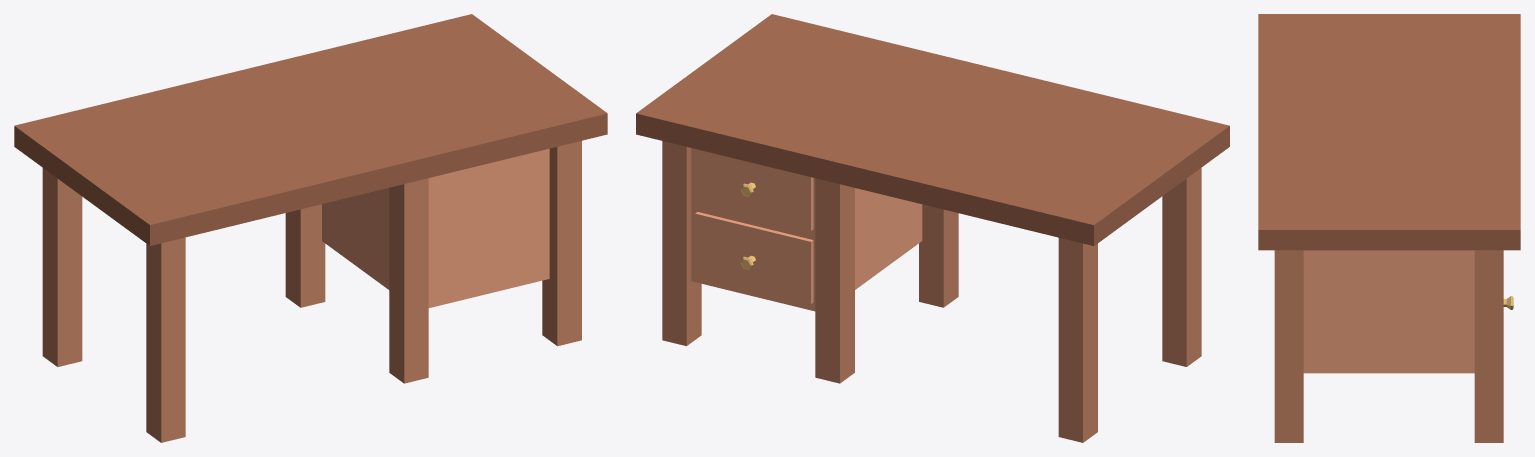
File: Desk.fbx
3 renders of one model, left to right at view 1: azimuth 30°, elevation 25°; view 2: azimuth 150°, elevation 25°; view 3: azimuth 270°, elevation 25°, orthographic. The views are drawn at different scales.
Parts seen in each view (by area): view 1: Plane.002, Plane.036, Plane.001; view 2: Plane.002, Plane.004, Plane.046, Plane.036, Plane.001; view 3: Plane.002, Plane.036, Plane.001.
Part boxes in pixels (box(x1,y1,x2,y2)): Plane.002: box(14, 14, 607, 442); Plane.036: box(322, 195, 549, 307); Plane.001: box(359, 148, 549, 234); Plane.002: box(636, 14, 1229, 442); Plane.004: box(695, 212, 813, 303); Plane.046: box(695, 149, 813, 230); Plane.036: box(691, 195, 922, 311); Plane.001: box(691, 148, 884, 237); Plane.002: box(1258, 14, 1520, 442); Plane.036: box(1303, 302, 1474, 373); Plane.001: box(1303, 250, 1474, 302).
Bounding box in the file's own units: 3.89 × 2 × 1.86.
